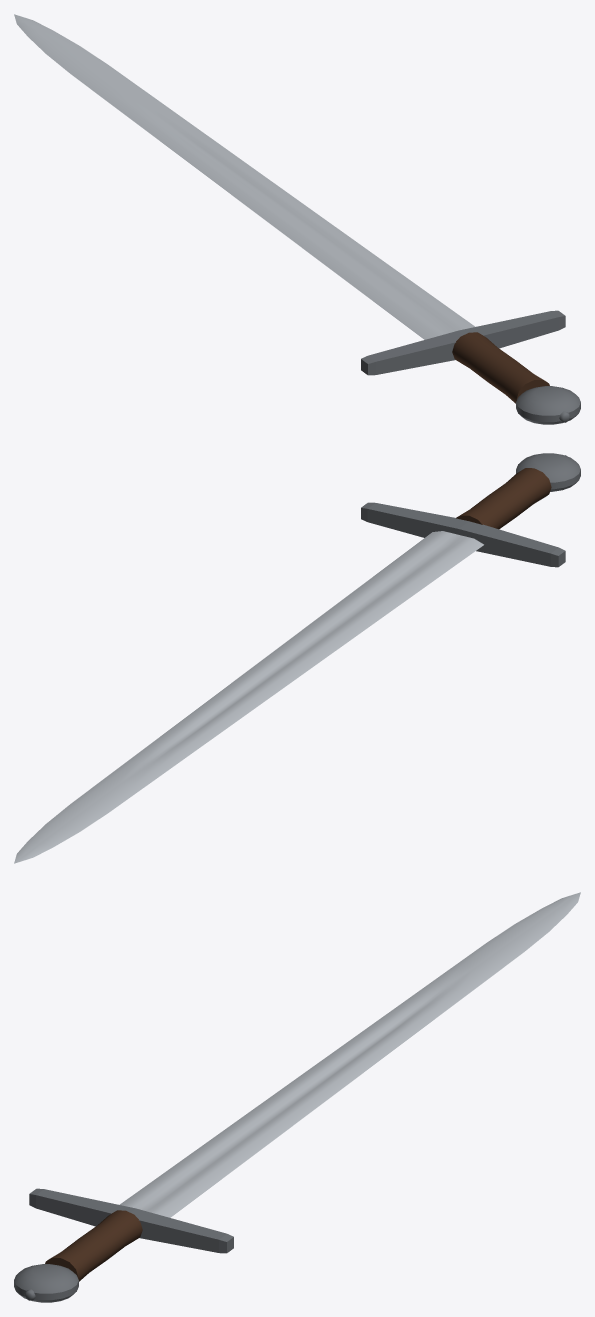
Rendered from IronSword.fbx.
The picture shows the model from 3 angles, top to bottom: view 1: azimuth 30°, elevation 25°; view 2: azimuth 150°, elevation 25°; view 3: azimuth 330°, elevation 25°; orthographic projection.
Visible parts, largest first — view 1: Blade, Guard, Handle, Pommel; view 2: Blade, Guard, Handle, Pommel; view 3: Blade, Guard, Handle, Pommel.
Part boxes in pixels (x1,y1,x2,y2): Blade: (14,14,475,339); Guard: (361,310,565,375); Handle: (452,332,549,403); Pommel: (516,386,580,424); Blade: (14,531,483,863); Guard: (361,502,565,567); Handle: (456,468,551,529); Pommel: (516,453,580,491); Blade: (119,892,580,1217); Guard: (29,1188,233,1253); Handle: (45,1210,142,1281); Pommel: (14,1264,78,1302).
Size of the model in its own units: 0.19 by 0.92 by 0.0276.
